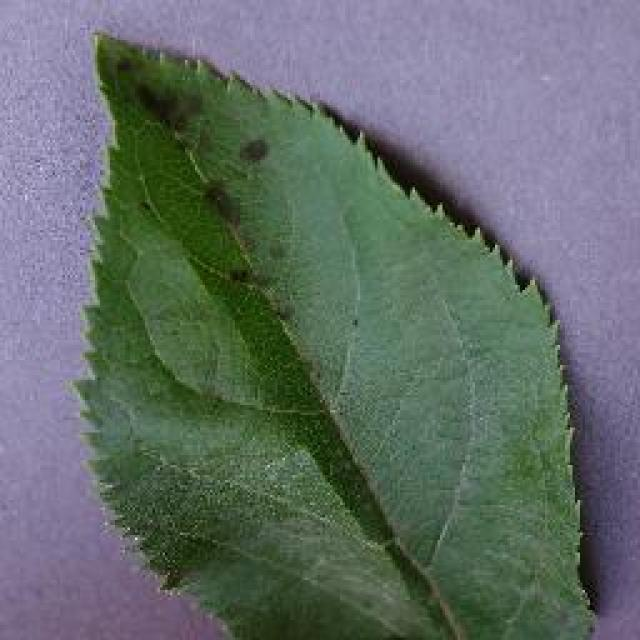apple scab disease: (70, 25, 602, 637)
